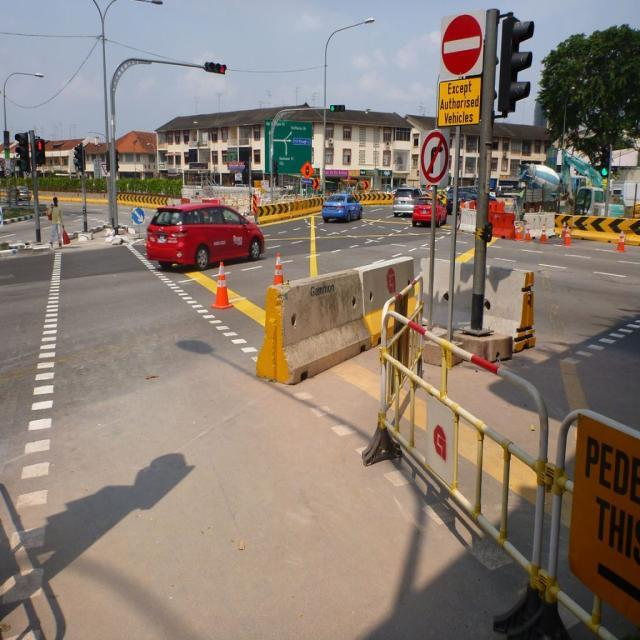off traffic light: (14, 132, 30, 171), (73, 142, 84, 171)
road_sign: (441, 13, 483, 76), (421, 130, 449, 184), (130, 207, 145, 225)
traffic light: (498, 16, 535, 113), (34, 138, 46, 165), (205, 61, 226, 74), (330, 105, 345, 112)
